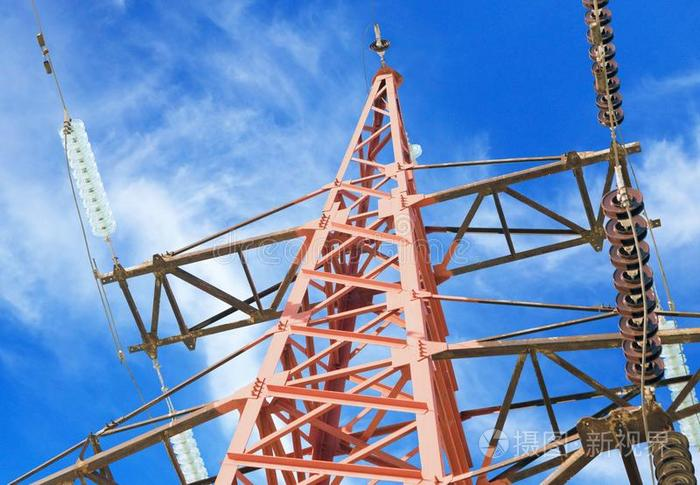insulator: (600, 185, 667, 387), (58, 118, 115, 240), (580, 1, 628, 128), (649, 428, 698, 484), (170, 429, 204, 485)
